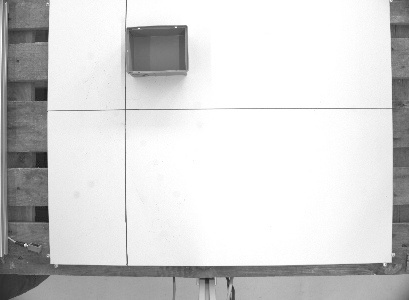klts: (122, 22, 192, 78)
